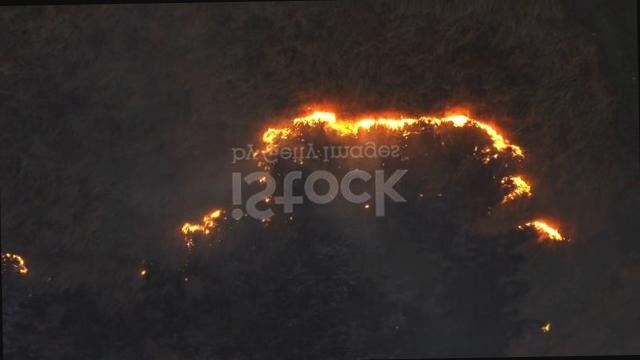fire: (301, 108, 427, 137), (475, 122, 525, 156), (252, 124, 293, 162), (180, 210, 222, 244), (520, 221, 569, 244), (498, 174, 532, 205), (435, 108, 470, 135), (2, 254, 26, 278)
